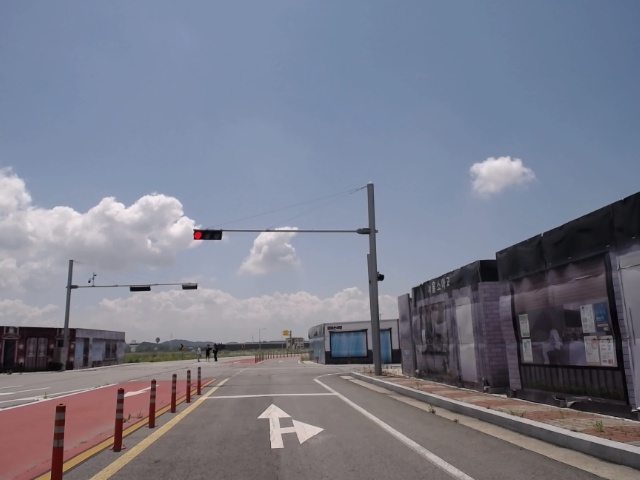red_3: (193, 230, 223, 241)
